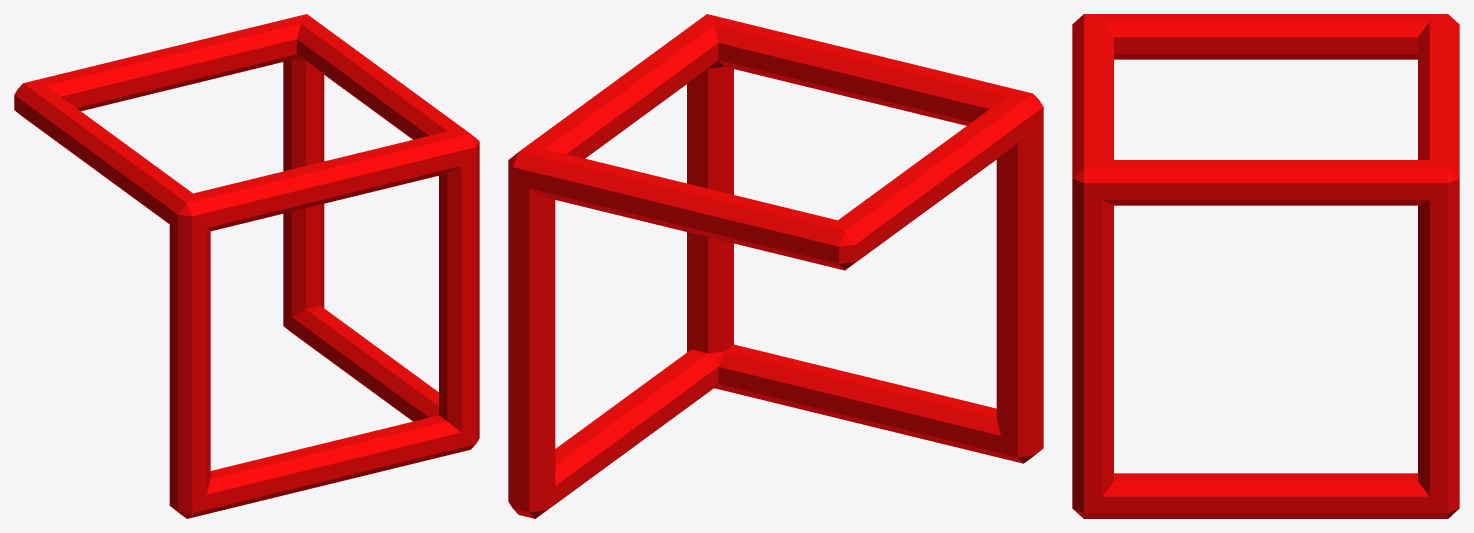
File: frame-corner.glb
3 views of the same model, side by side, from view 1: azimuth 30°, elevation 25°; view 2: azimuth 150°, elevation 25°; view 3: azimuth 270°, elevation 25° (orthographic). The views are drawn at different scales.
Parts seen in each view (by area): view 1: 立方体.003; view 2: 立方体.003; view 3: 立方体.003.
Part boxes in pixels (left/top/right/bottom): 立方体.003: left=14, top=14, right=479, bottom=518; 立方体.003: left=508, top=14, right=1043, bottom=518; 立方体.003: left=1072, top=14, right=1459, bottom=518.
Bounding box in the file's own units: 1.16 × 1.16 × 1.16.
